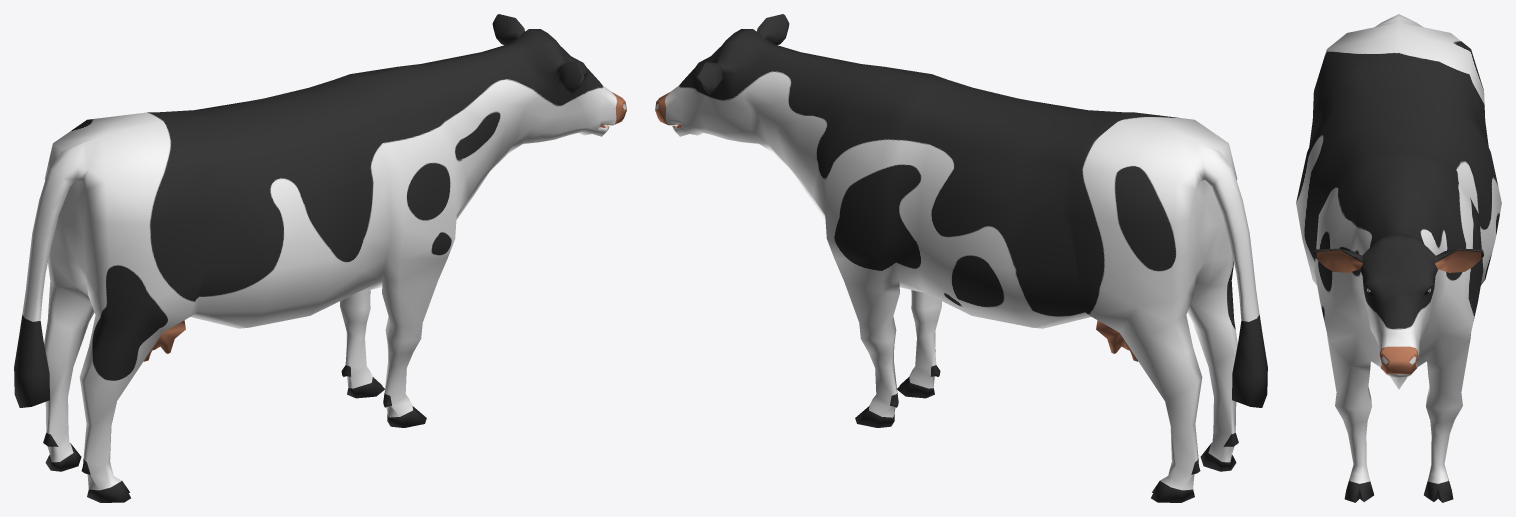
The model's file is SM_Cow_Smooth.obj.
The picture shows the model from 3 angles, left to right: view 1: azimuth 30°, elevation 25°; view 2: azimuth 150°, elevation 25°; view 3: azimuth 270°, elevation 25°; orthographic projection.
Visible parts, largest first — view 1: SM_Cow_Smooth_MI_Cow; view 2: SM_Cow_Smooth_MI_Cow; view 3: SM_Cow_Smooth_MI_Cow.
Boxes of the visible parts, <box> form: SM_Cow_Smooth_MI_Cow: <box>14,14,626,502</box>; SM_Cow_Smooth_MI_Cow: <box>655,14,1267,502</box>; SM_Cow_Smooth_MI_Cow: <box>1296,14,1501,502</box>.
Size of the model in its own units: 2.79 by 1.5 by 0.8359.
Materials: 1 (1 with a texture image).
